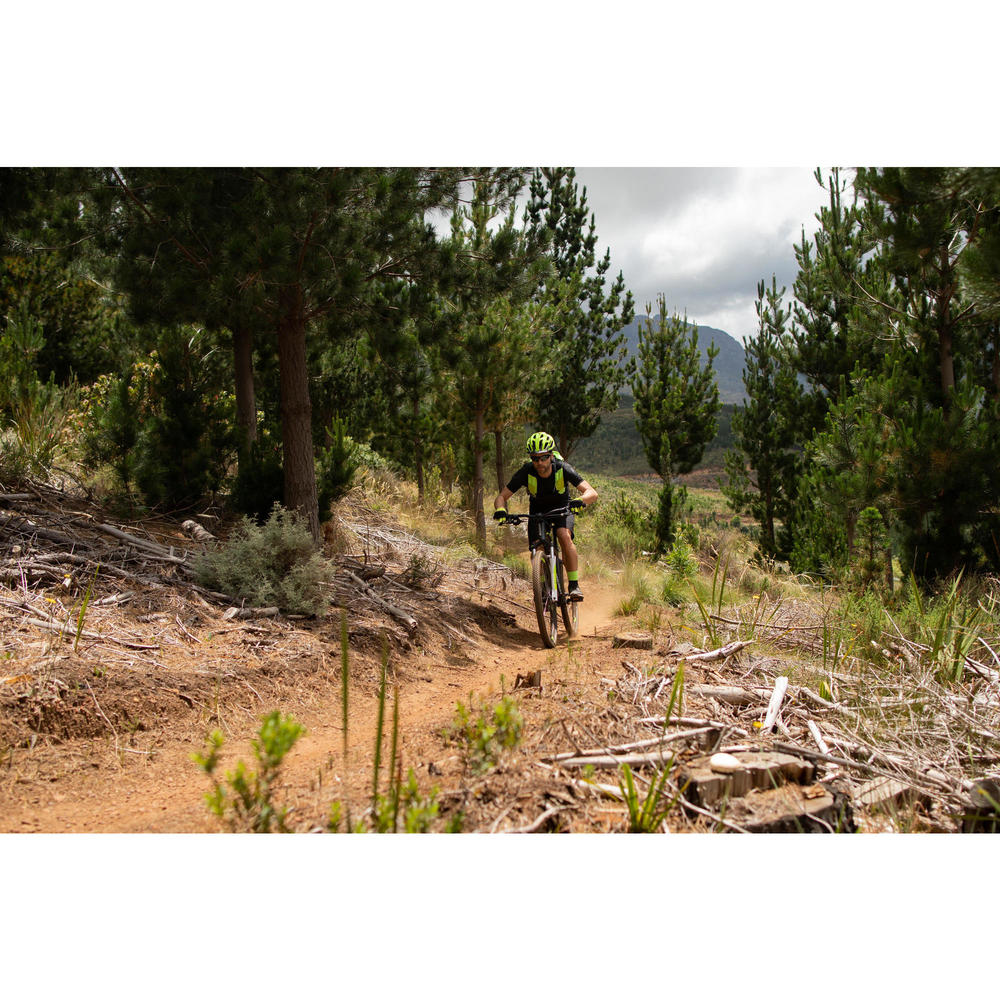MountainBike: (481, 492, 606, 650)
